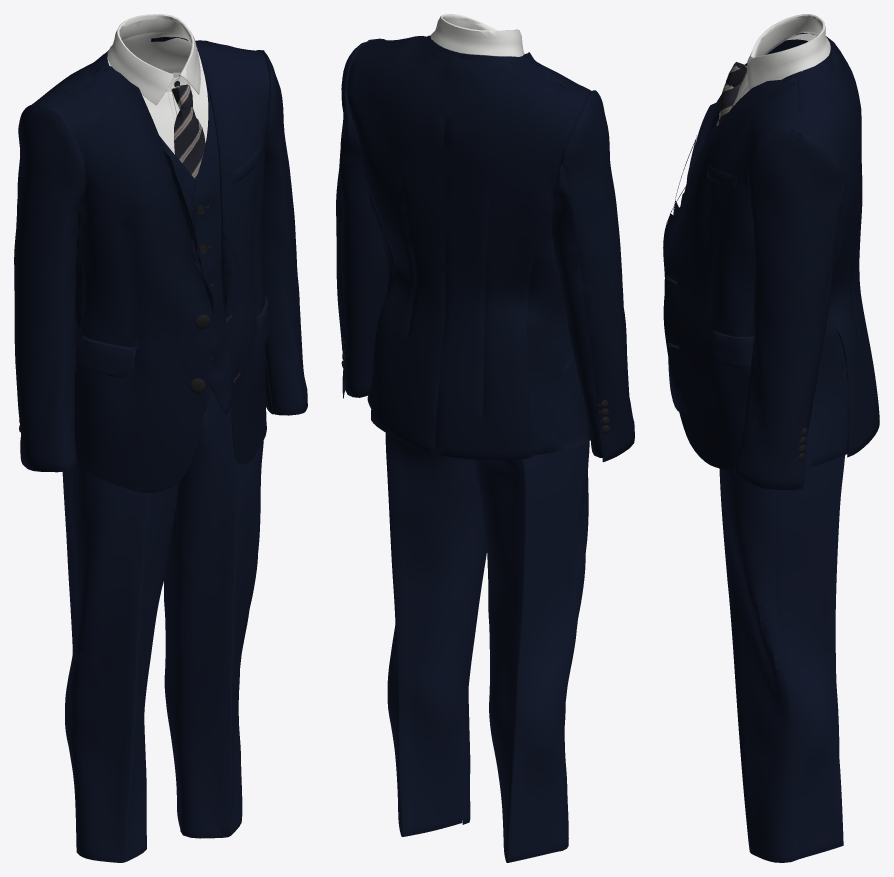
The model's file is MW_Tailleur_suit_v4_BASE_stepC_neck.glb.
The picture shows the model from 3 angles, left to right: view 1: azimuth 30°, elevation 25°; view 2: azimuth 150°, elevation 25°; view 3: azimuth 270°, elevation 25°; orthographic projection. The views are drawn at different scales.
Parts seen in each view (by area): view 1: Jacket, Trousers, Shirt, Waistcoat, Tie, Trim; view 2: Jacket, Trousers, Shirt, Waistcoat; view 3: Jacket, Trousers, Shirt, Tie, Waistcoat.
Part boxes in pixels (x1,y1,x2,y2): Jacket: [14, 37, 307, 492]; Trousers: [62, 383, 263, 862]; Shirt: [107, 14, 208, 154]; Waistcoat: [75, 42, 231, 413]; Tie: [172, 84, 205, 179]; Trim: [19, 81, 210, 432]; Jacket: [336, 35, 634, 462]; Trousers: [385, 339, 589, 862]; Shirt: [430, 14, 524, 56]; Waistcoat: [417, 36, 529, 68]; Jacket: [663, 32, 879, 489]; Trousers: [719, 455, 845, 862]; Shirt: [716, 14, 830, 125]; Tie: [718, 62, 746, 125]; Waistcoat: [712, 46, 835, 128].
Bounding box in the file's own units: 0.5389 × 1.5 × 0.3678.
7 materials, 3 textured.
